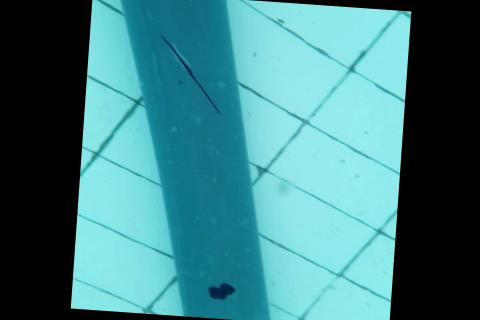kebocoran: (204, 282, 235, 304)
keretakan: (151, 33, 226, 117)
